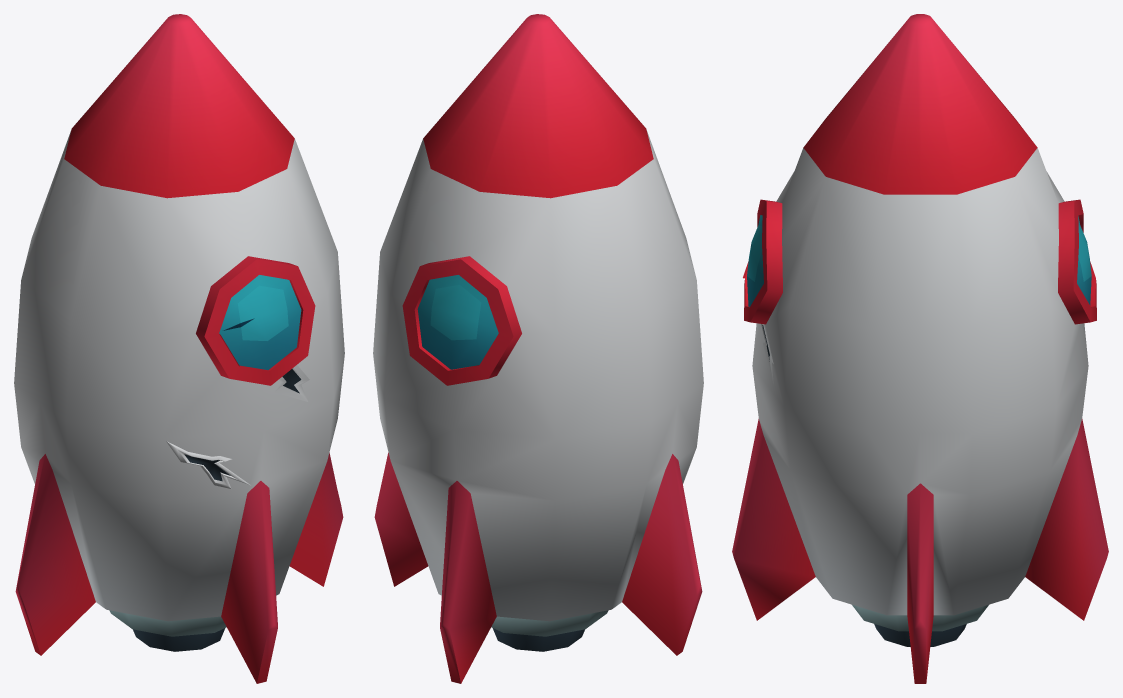
Rendered from Rocket.fbx.
3 renders of one model, left to right at view 1: azimuth 30°, elevation 25°; view 2: azimuth 150°, elevation 25°; view 3: azimuth 270°, elevation 25°, orthographic.
Visible parts, largest first — view 1: Rocket, Rocket_Damage; view 2: Rocket; view 3: Rocket, Rocket_Damage.
Part boxes in pixels (box(x1,y1,x2,y2)): Rocket: box(14, 14, 344, 683); Rocket_Damage: box(166, 275, 309, 488); Rocket: box(373, 14, 703, 683); Rocket: box(732, 14, 1108, 683); Rocket_Damage: box(743, 215, 773, 384).
Size of the model in its own units: 274 by 497 by 278.
